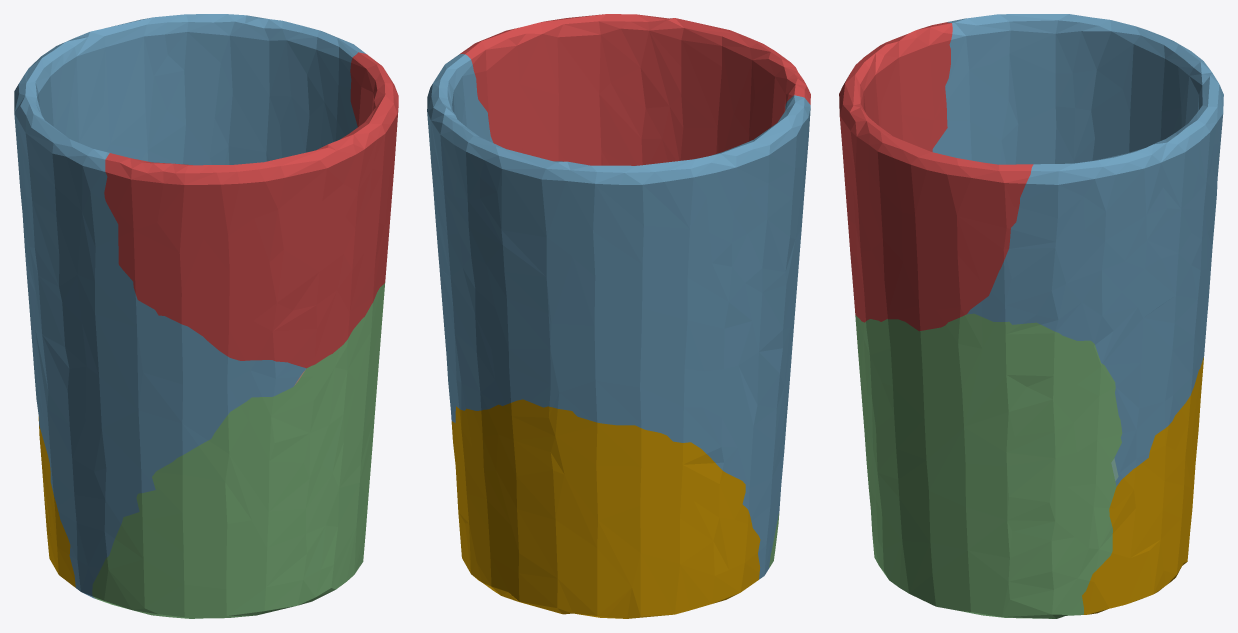
Rendered from mode_5_8pcs.glb.
3 views of the same model, side by side, from view 1: azimuth 30°, elevation 25°; view 2: azimuth 150°, elevation 25°; view 3: azimuth 270°, elevation 25° (orthographic).
Parts seen in each view (by area): view 1: piece_2.obj, piece_1.obj, piece_3.obj, piece_0.obj; view 2: piece_2.obj, piece_0.obj, piece_1.obj; view 3: piece_2.obj, piece_3.obj, piece_1.obj, piece_0.obj.
Boxes of the visible parts, left/top/right/bottom form: piece_2.obj: left=14, top=14, right=365, bottom=598; piece_1.obj: left=104, top=52, right=398, bottom=368; piece_3.obj: left=92, top=282, right=385, bottom=618; piece_0.obj: left=38, top=417, right=75, bottom=587; piece_2.obj: left=427, top=54, right=810, bottom=579; piece_0.obj: left=451, top=399, right=760, bottom=618; piece_1.obj: left=459, top=14, right=810, bottom=165; piece_2.obj: left=932, top=14, right=1223, bottom=486; piece_3.obj: left=855, top=313, right=1122, bottom=618; piece_1.obj: left=839, top=22, right=1033, bottom=331; piece_0.obj: left=1082, top=357, right=1203, bottom=614.
Bounding box in the file's own units: 0.7449 × 1 × 0.746.
